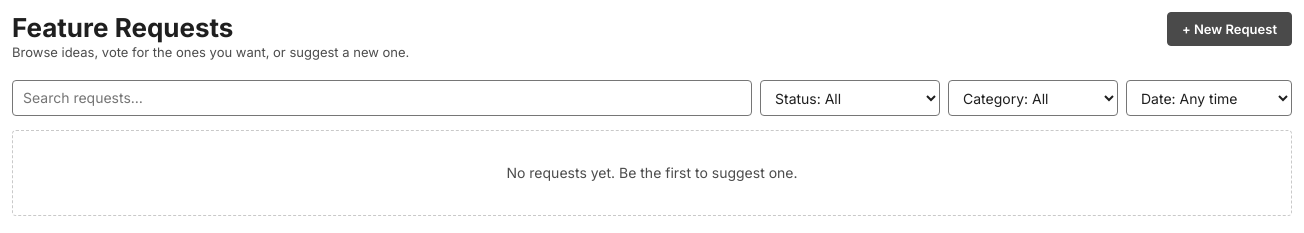
Test case: Feature Requests list › sends the chosen filters to the API
Select "Status: Planned" in the dropdown named "Status": (850,98) [760, 80, 940, 116]
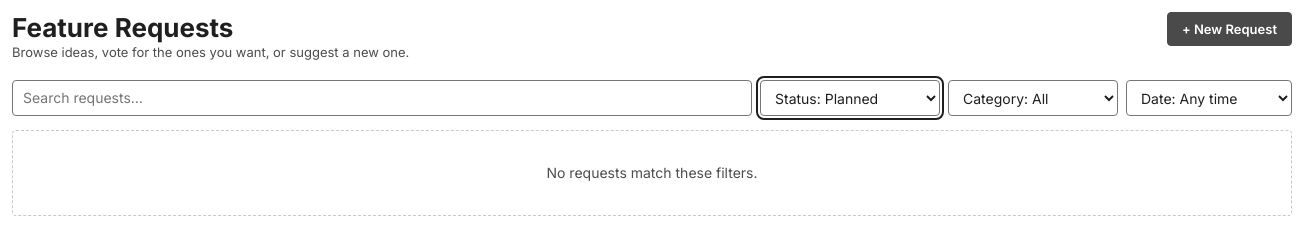
Check: the text "No requests match these filters." is shown, box [12, 130, 1292, 216]
